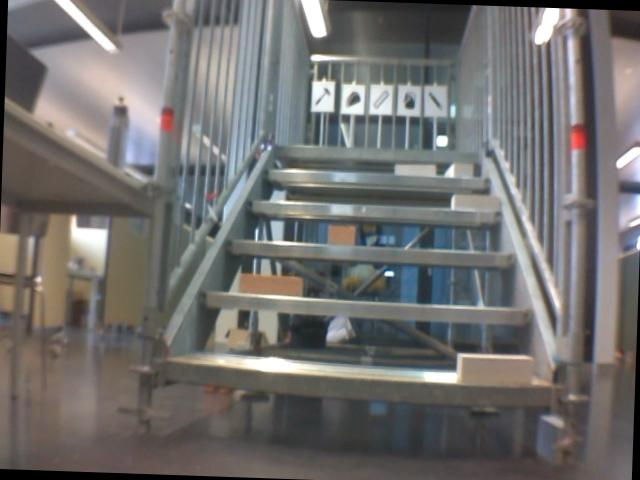brick: (456, 352, 533, 383), (240, 274, 301, 296), (452, 194, 499, 211), (326, 226, 354, 244), (394, 162, 434, 174), (445, 162, 472, 176)
bucket: (399, 89, 419, 110)
edge: (164, 362, 549, 407), (199, 290, 534, 325), (226, 240, 515, 265), (246, 199, 501, 222), (266, 170, 490, 188), (275, 144, 476, 161)
hammer: (313, 85, 334, 109)
pencil: (425, 89, 447, 114)
ruler: (372, 88, 389, 110)
steps: (155, 138, 563, 411)
taco: (344, 88, 362, 111)
